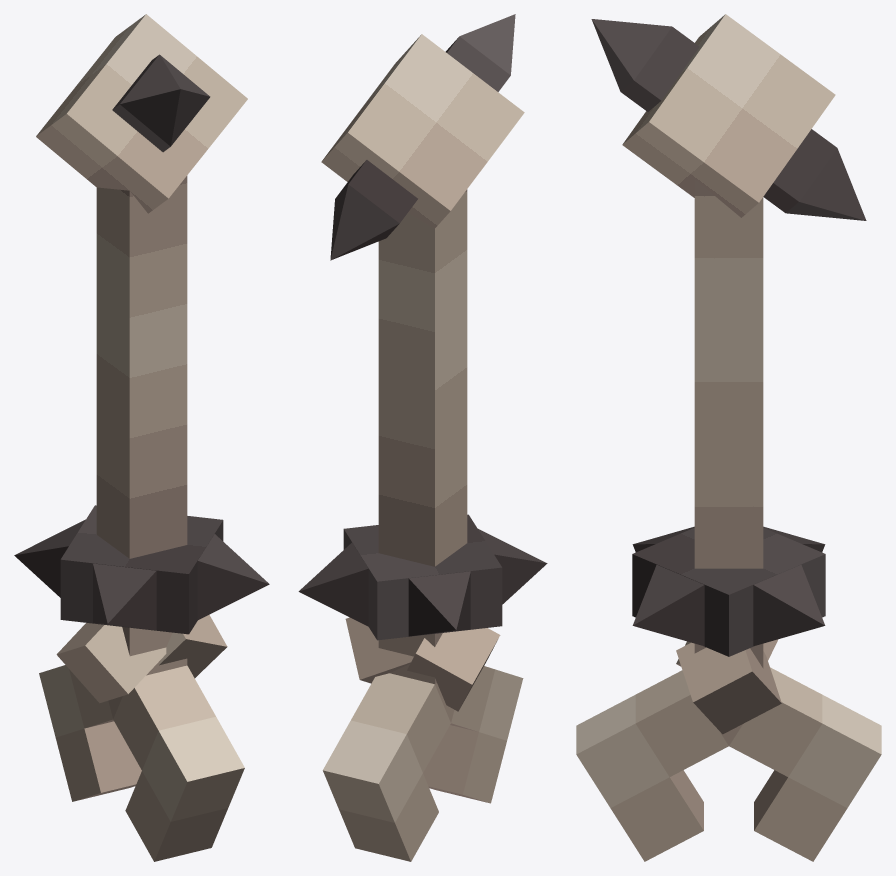
Rendered from arm_grabber_l.obj.
3 renders of one model, left to right at view 1: azimuth 30°, elevation 25°; view 2: azimuth 150°, elevation 25°; view 3: azimuth 270°, elevation 25°, orthographic. The views are drawn at different scales.
Visible parts, largest first — view 1: ARM_LEFT_BONE_GRABBER_Cube.400; view 2: ARM_LEFT_BONE_GRABBER_Cube.400; view 3: ARM_LEFT_BONE_GRABBER_Cube.400.
Part boxes in pixels (<box>): ARM_LEFT_BONE_GRABBER_Cube.400: <box>14,14,269,861</box>; ARM_LEFT_BONE_GRABBER_Cube.400: <box>298,14,547,861</box>; ARM_LEFT_BONE_GRABBER_Cube.400: <box>576,14,881,861</box>.
Bounding box in the file's own units: 0.1951 × 0.8414 × 0.279.
